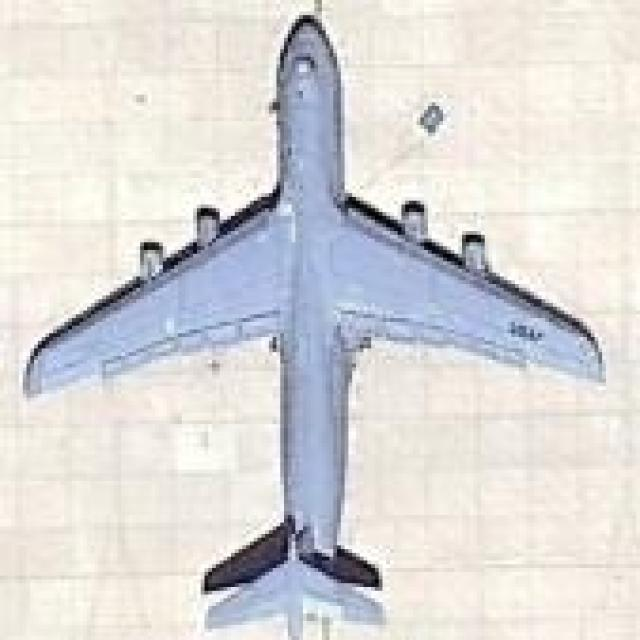C-5_TopDown: (19, 11, 606, 636)
